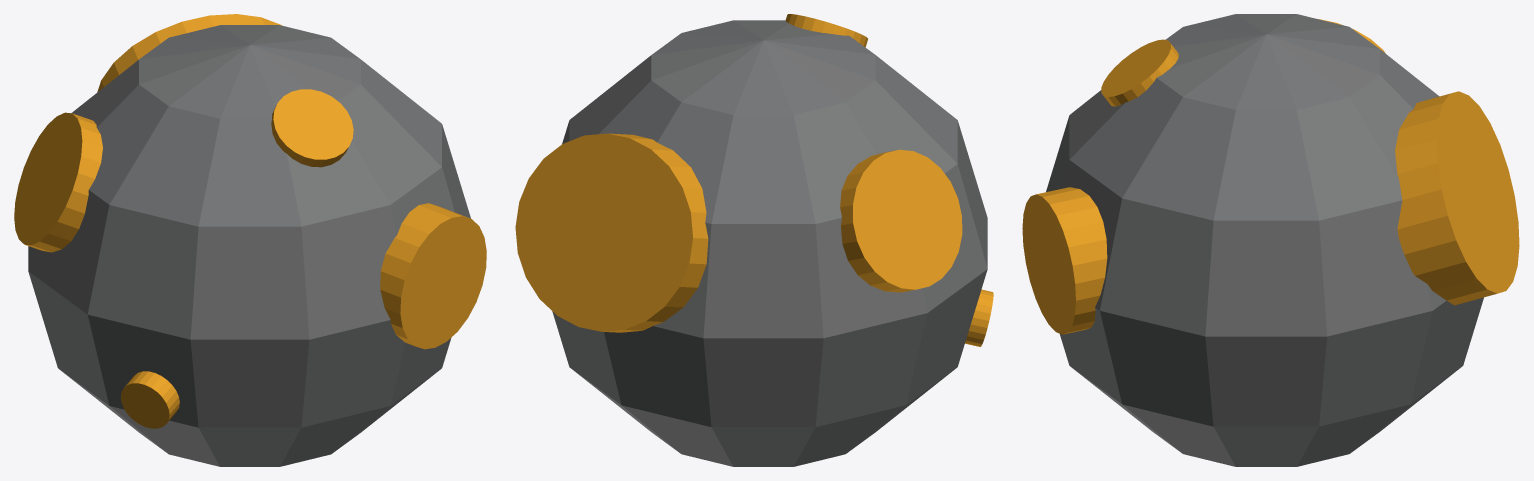
File: AsteroidExoticMatter.gltf
3 views of the same model, side by side, from view 1: azimuth 30°, elevation 25°; view 2: azimuth 150°, elevation 25°; view 3: azimuth 270°, elevation 25° (orthographic). The views are drawn at different scales.
Parts seen in each view (by area): view 1: AsteroidBody, Exotic5, Exotic2, Exotic1, Exotic4, Exotic3; view 2: AsteroidBody, Exotic3, Exotic2, Exotic4, Exotic1; view 3: AsteroidBody, Exotic3, Exotic5, Exotic1.
Part boxes in pixels (x1,y1,x2,y2): AsteroidBody: (28, 25, 470, 466); Exotic5: (380, 203, 486, 349); Exotic2: (14, 112, 102, 252); Exotic1: (271, 89, 353, 167); Exotic4: (120, 371, 179, 428); Exotic3: (97, 14, 281, 91); AsteroidBody: (552, 20, 987, 466); Exotic3: (515, 133, 708, 332); Exotic2: (840, 149, 962, 292); Exotic4: (965, 289, 993, 346); Exotic1: (785, 14, 867, 47); AsteroidBody: (1046, 14, 1483, 466); Exotic3: (1395, 91, 1519, 305); Exotic5: (1022, 187, 1107, 334); Exotic1: (1101, 39, 1178, 106).
Bounding box in the file's own units: 0.2567 × 0.25 × 0.2733.
Materials: 2 (2 with a texture image).
